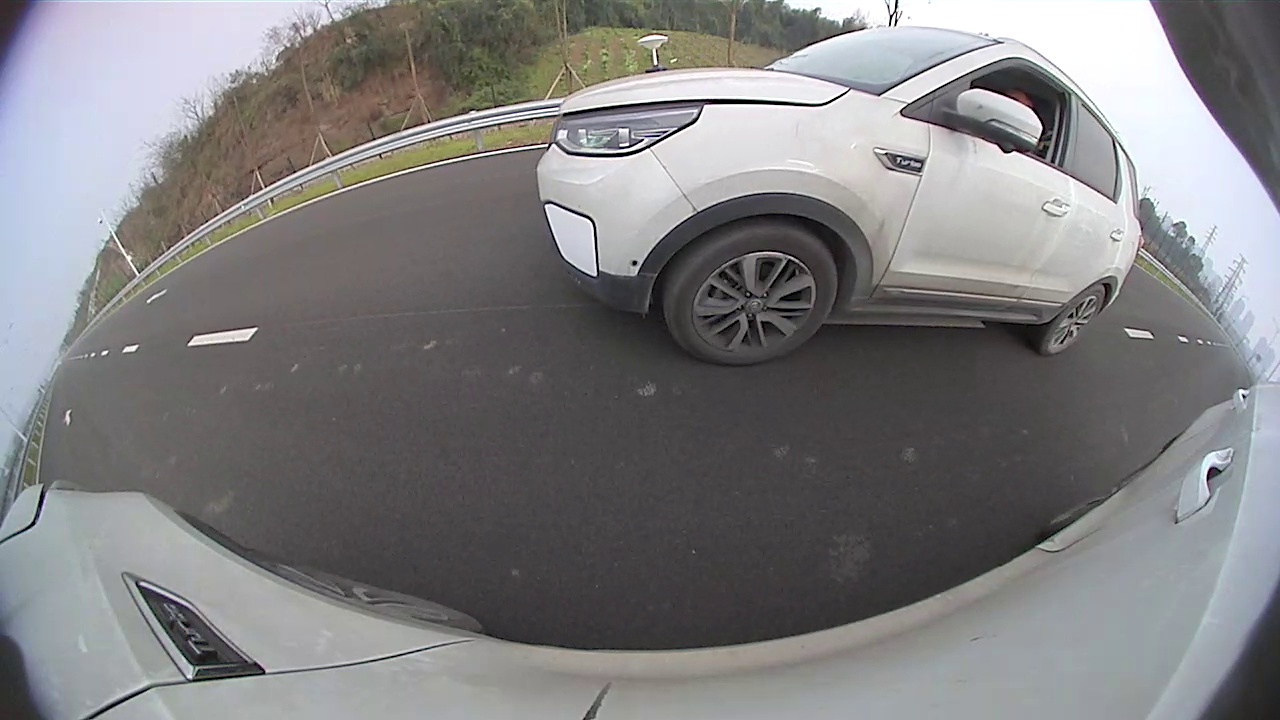car: (535, 25, 1143, 365)
front: (666, 225, 836, 364)
rear: (1039, 285, 1105, 353)
